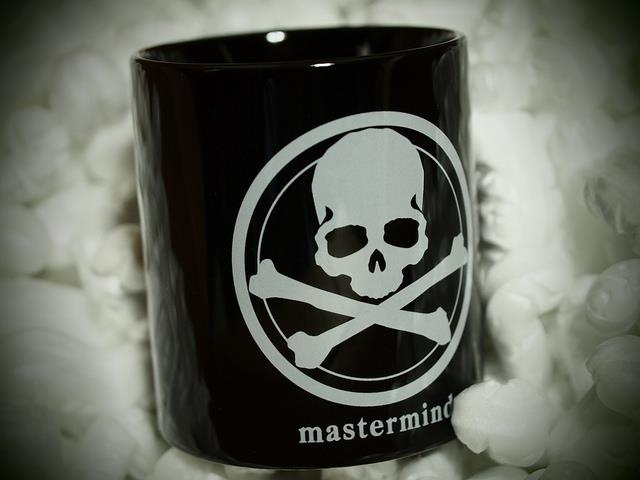mastermind_JAPAN: (248, 116, 480, 398)
